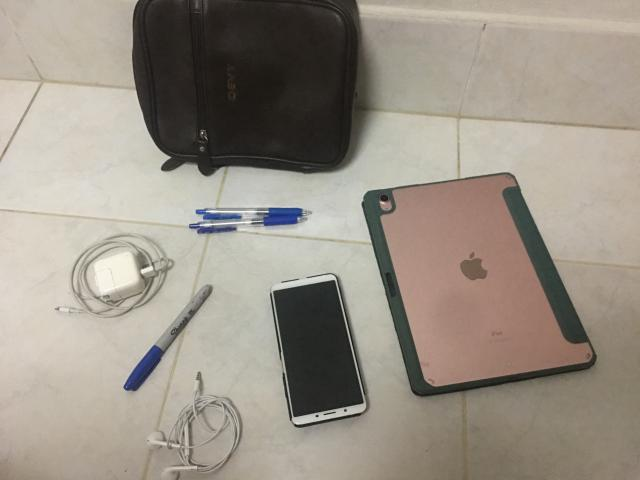Mobile phone: (270, 274, 366, 428)
Pen: (124, 285, 212, 391), (189, 208, 310, 234)
wire: (146, 372, 241, 480), (56, 232, 171, 318)
